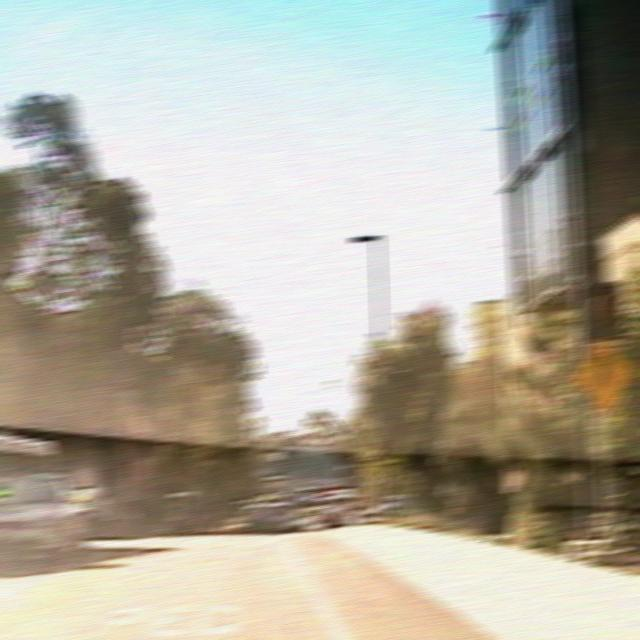pedestrianCrossing: (573, 334, 634, 410)
